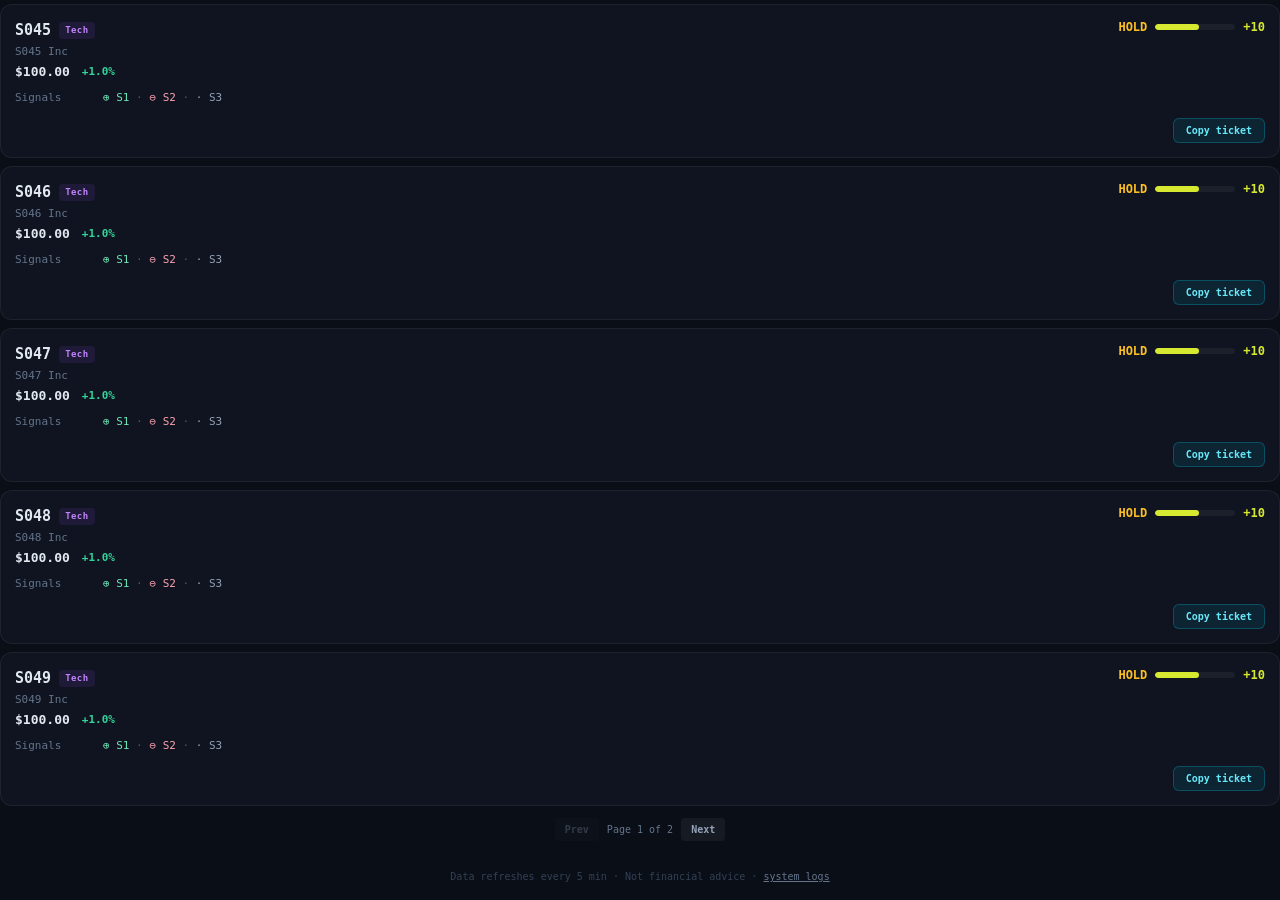
Scenario: ScannerView › paginates when stocks > PAGE_SIZE
(page scrolled)
Check: the text "Page 1 of 2" is shown, box [607, 822, 673, 837]
Click the button "Next".
click(703, 830)  # box [681, 818, 725, 841]
(page scrolled)
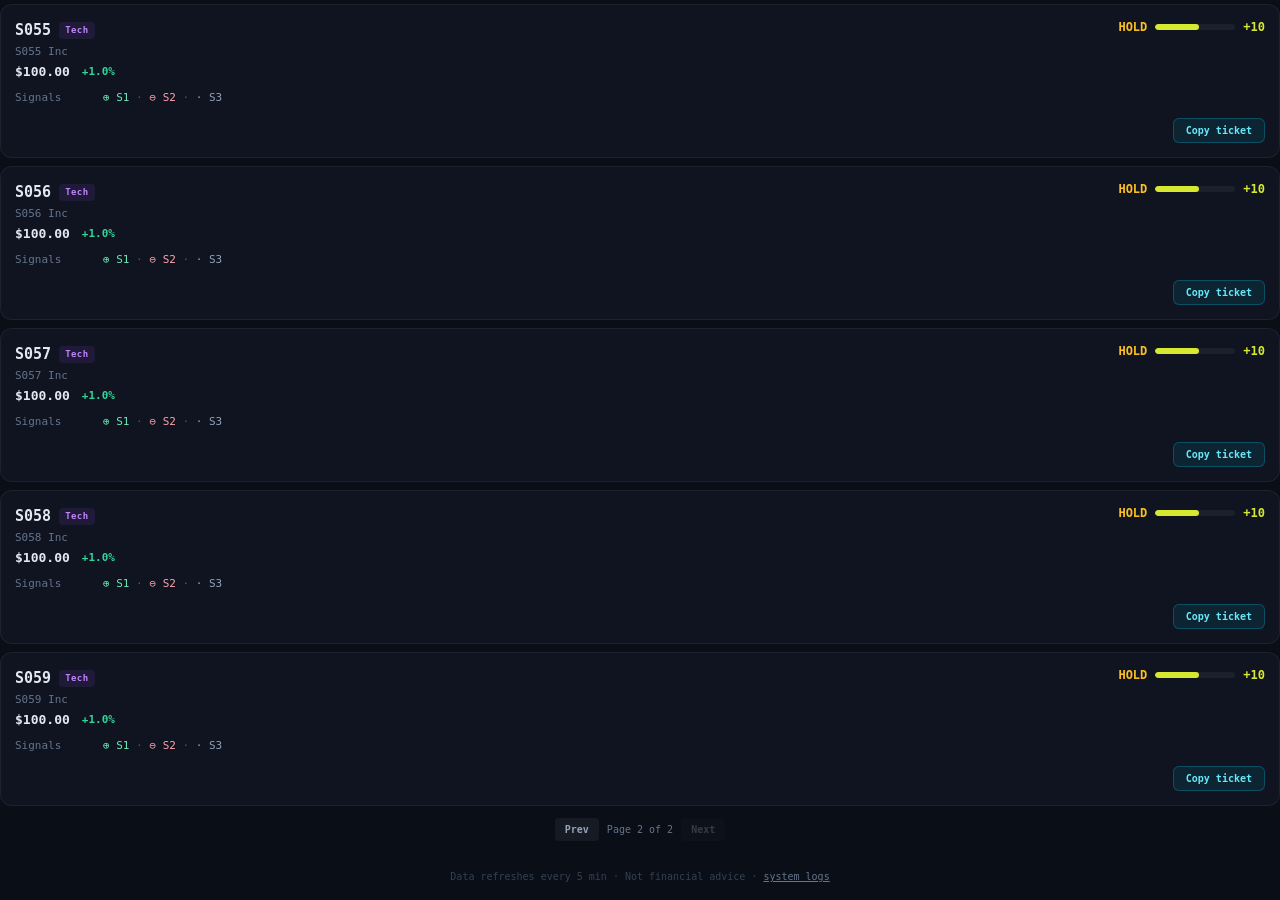
Check: the text "Page 2 of 2" is shown, box [607, 822, 673, 837]
Click the button "Prev".
click(577, 830)  # box [555, 818, 599, 841]
(page scrolled)
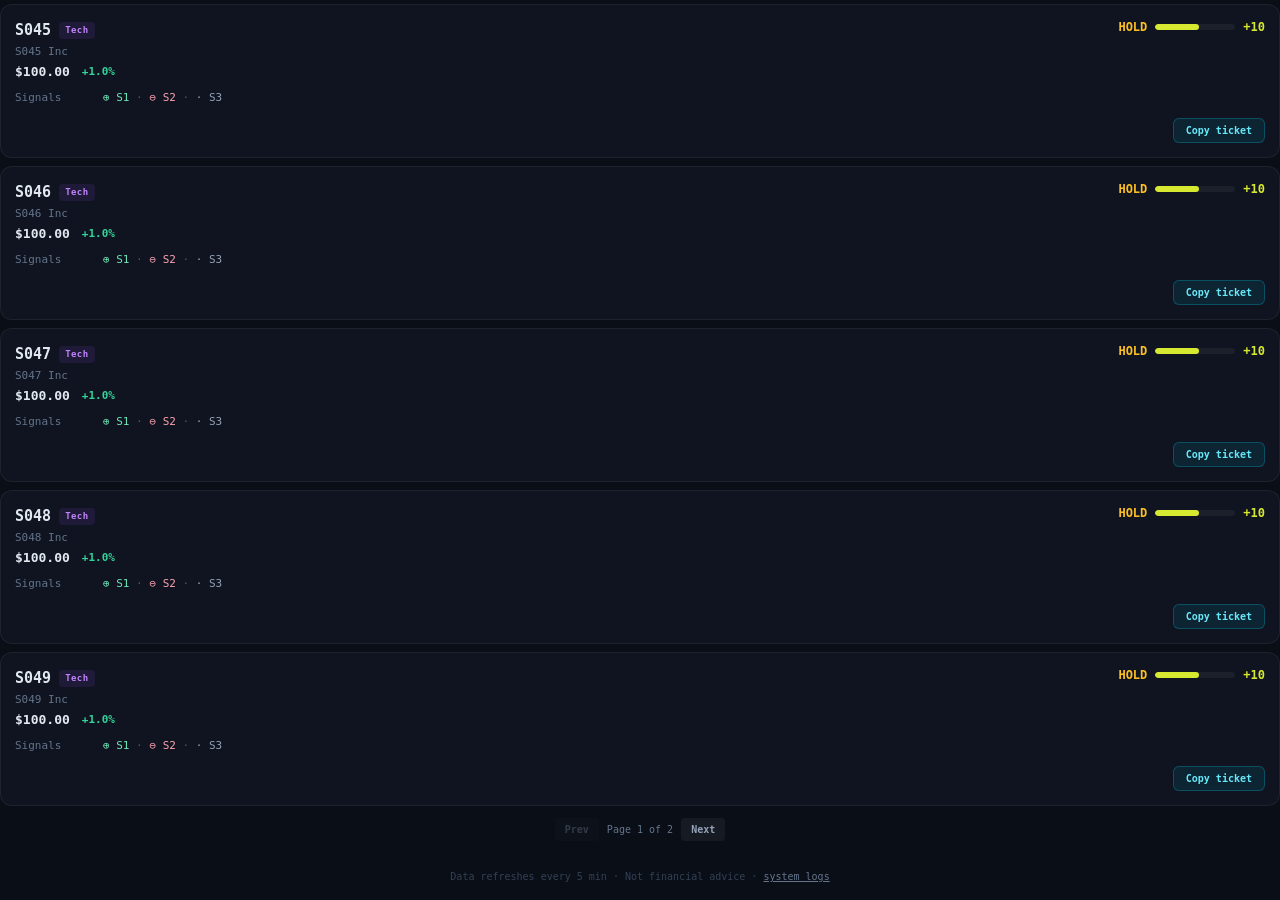
Check: the text "Page 1 of 2" is shown, box [607, 822, 673, 837]
